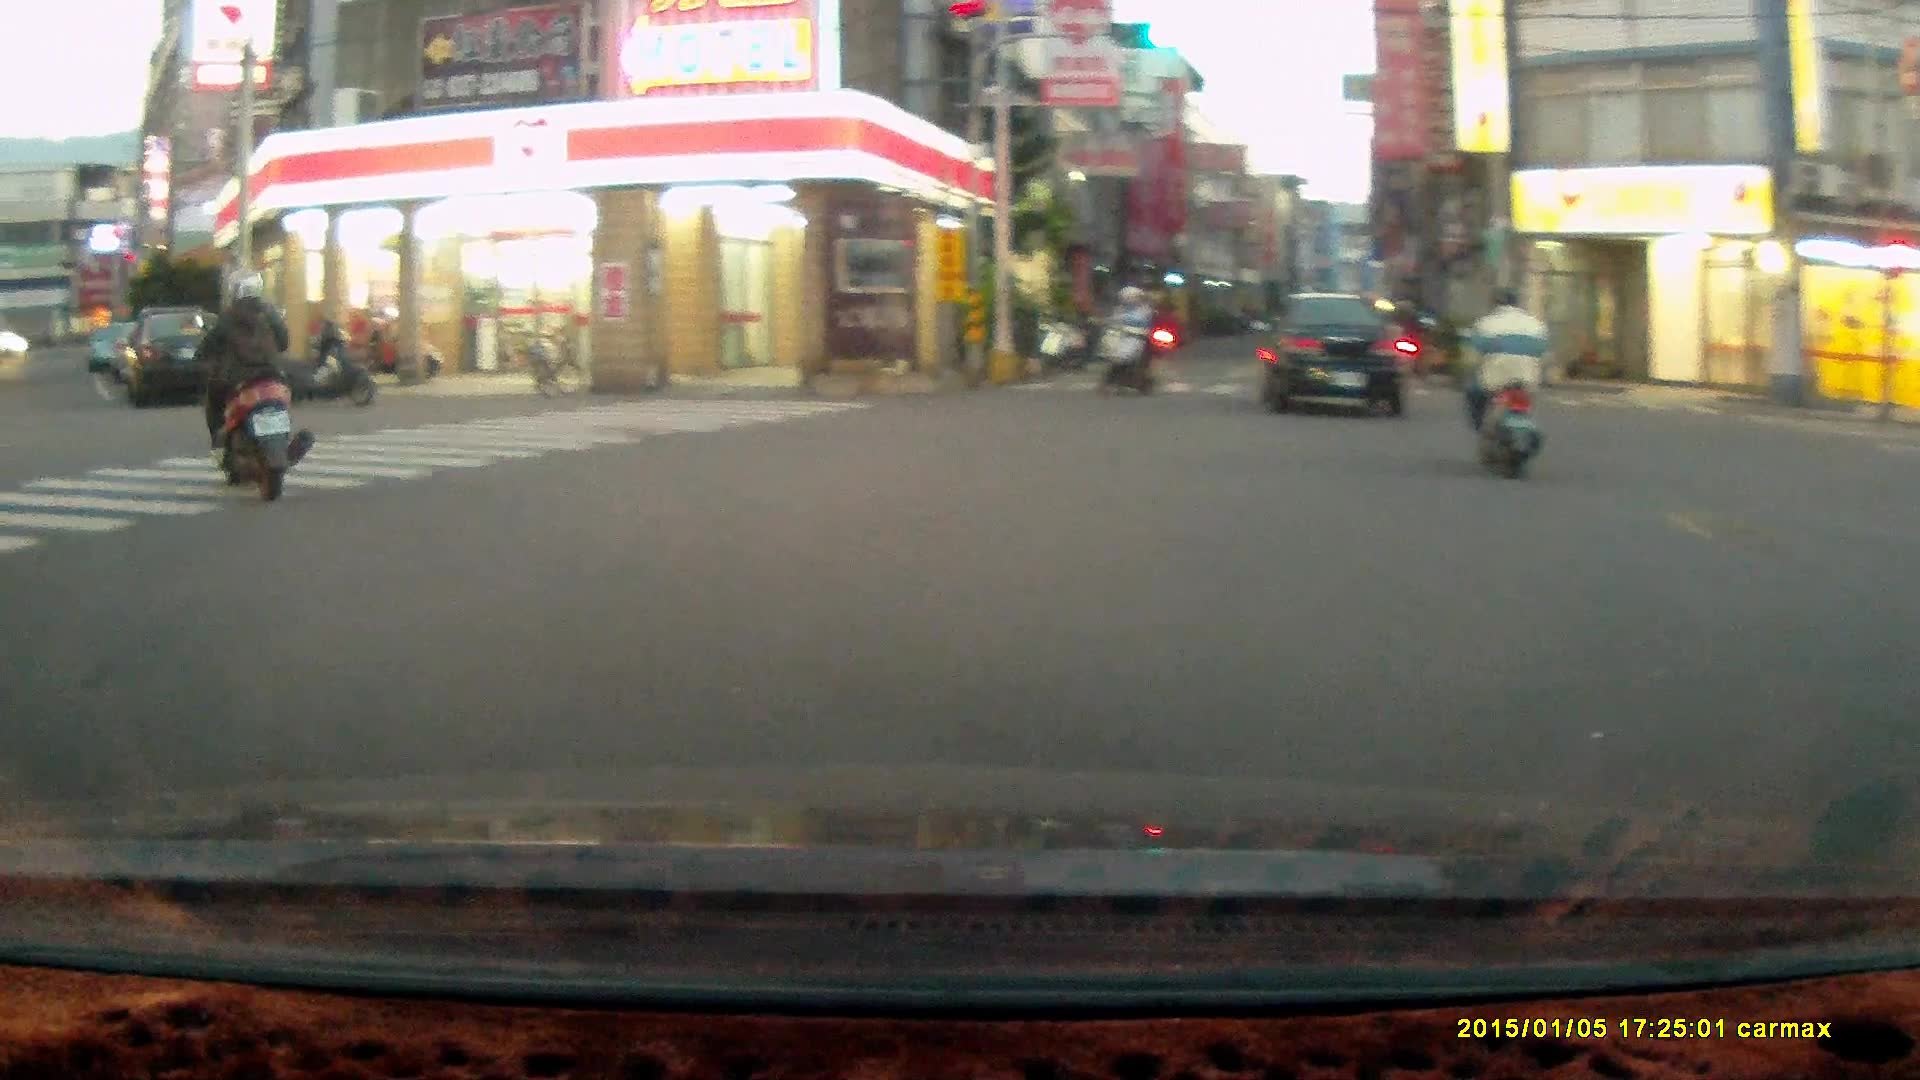rider: (194, 270, 316, 500), (1462, 284, 1555, 483), (1097, 281, 1159, 396)
vehicle: (1265, 294, 1418, 418), (128, 309, 253, 408)
